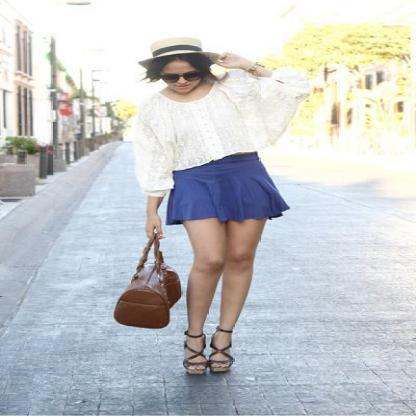bag: (113, 241, 180, 328)
hat: (150, 37, 226, 72)
shirt: (119, 76, 302, 189)
skirt: (167, 151, 289, 224)
